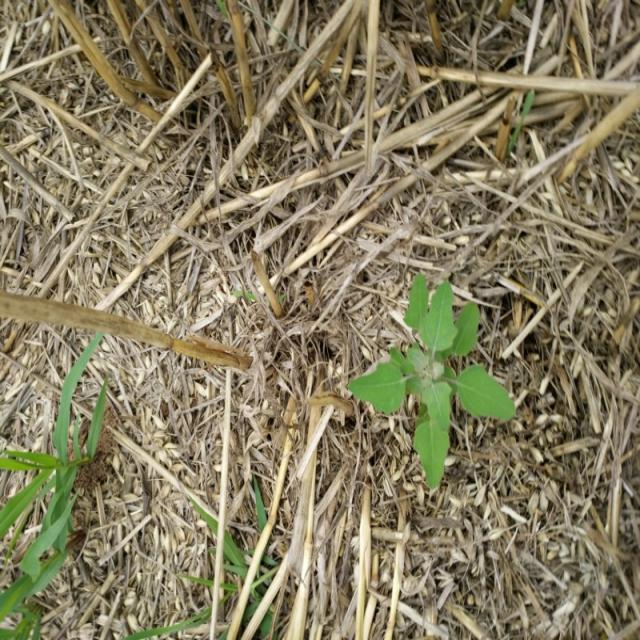ca: (352, 283, 514, 480)
